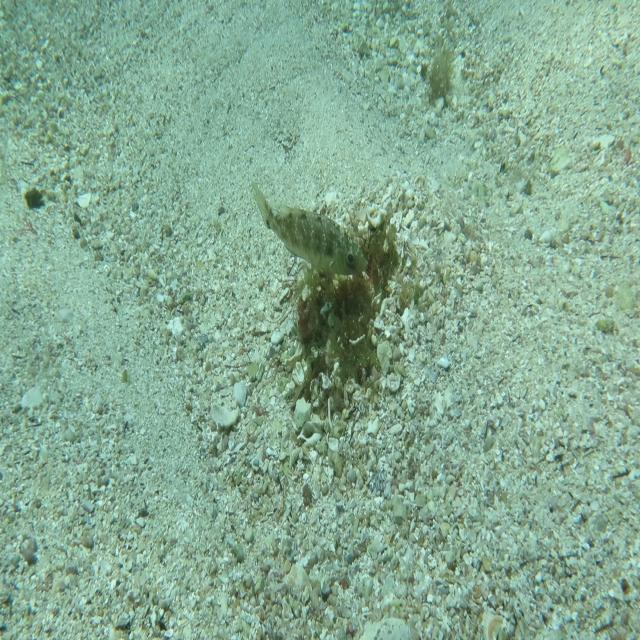FAN: (250, 178, 369, 275)
nest: (279, 210, 410, 418)
vegetation: (424, 41, 457, 106), (24, 184, 44, 215)
